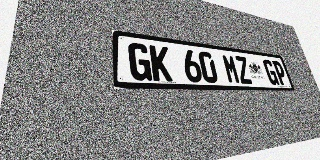0: (198, 51, 219, 83)
6: (181, 49, 203, 82)
G: (128, 42, 152, 81), (262, 59, 280, 85)
K: (149, 45, 173, 81)
M: (221, 54, 241, 84)
P: (272, 60, 289, 85)
Z: (234, 56, 253, 84)
